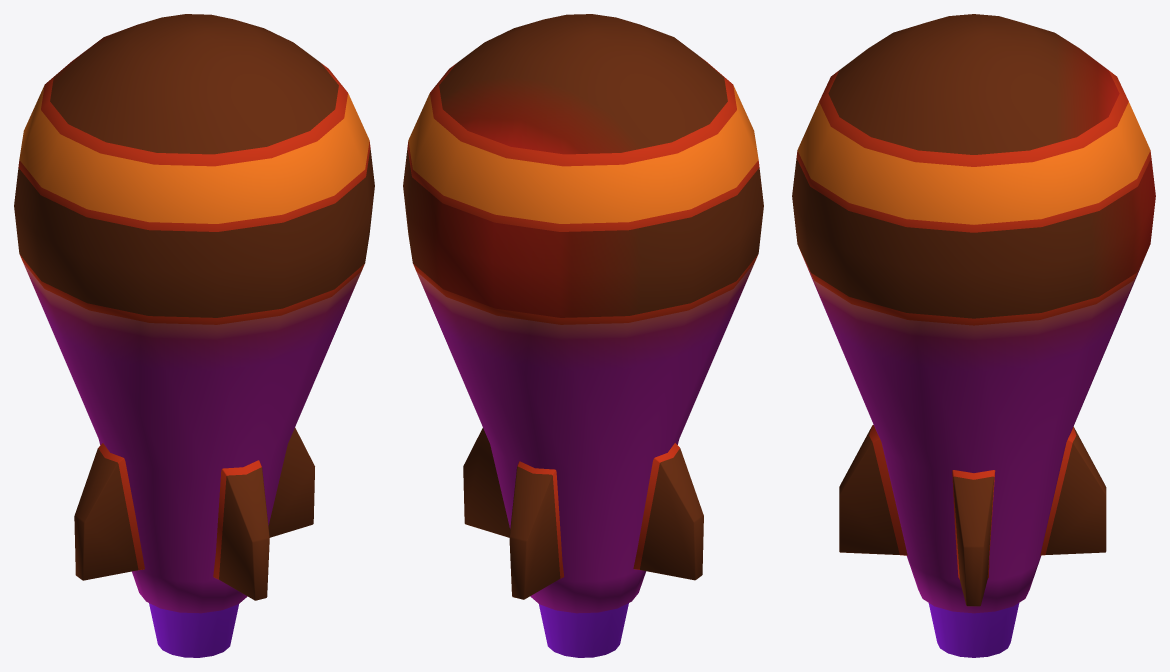
The model's file is mushroom_bomb.glb.
The picture shows the model from 3 angles, left to right: view 1: azimuth 30°, elevation 25°; view 2: azimuth 150°, elevation 25°; view 3: azimuth 270°, elevation 25°; orthographic projection.
Visible parts, largest first — view 1: mushroom_bomb; view 2: mushroom_bomb; view 3: mushroom_bomb.
Boxes of the visible parts, left/top/right/bottom form: mushroom_bomb: left=14, top=14, right=374, bottom=657; mushroom_bomb: left=403, top=14, right=763, bottom=657; mushroom_bomb: left=792, top=14, right=1155, bottom=657.
Size of the model in its own units: 1.21 by 2.23 by 1.21.
Materials: 1 (1 with a texture image).
